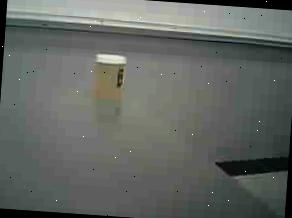Bottle B: (88, 48, 132, 117)
